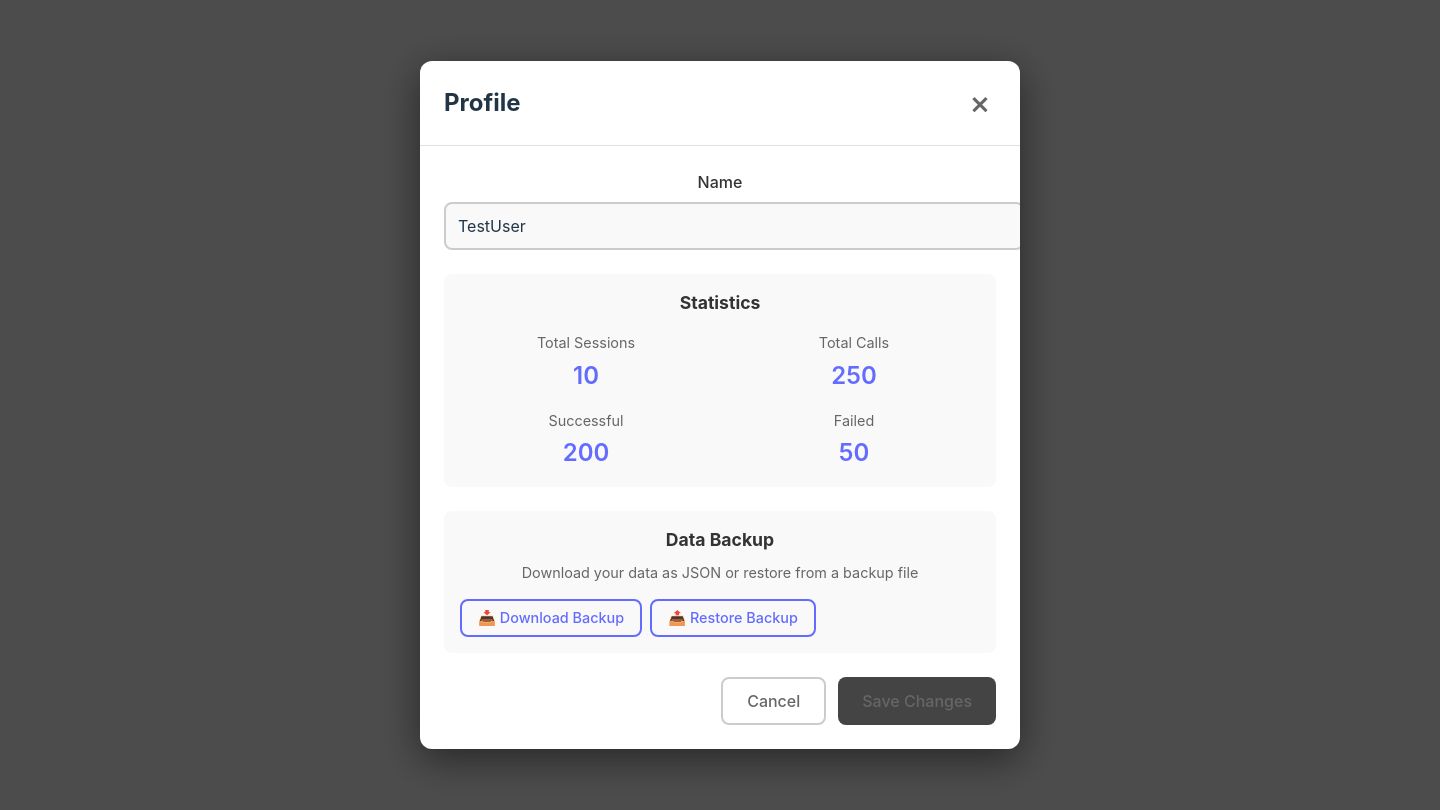
Test: ProfileModal › shows validation error for invalid name
Clear the field labelled "Name" at {"x": 734, "y": 226}, box [444, 202, 1024, 250]
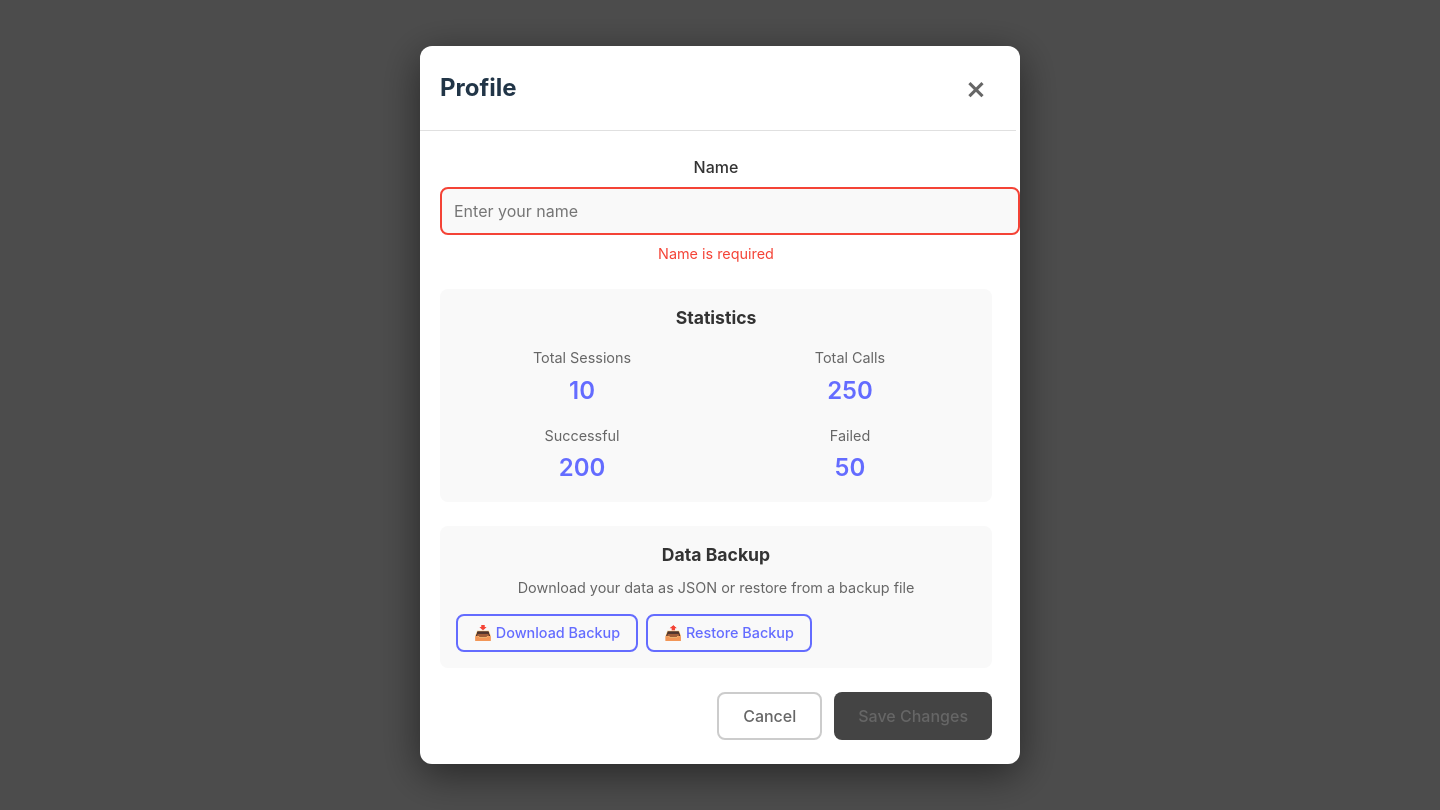
Type "Invalid@Name!" into the field labelled "Name" at {"x": 730, "y": 211}, box [440, 187, 1020, 235]
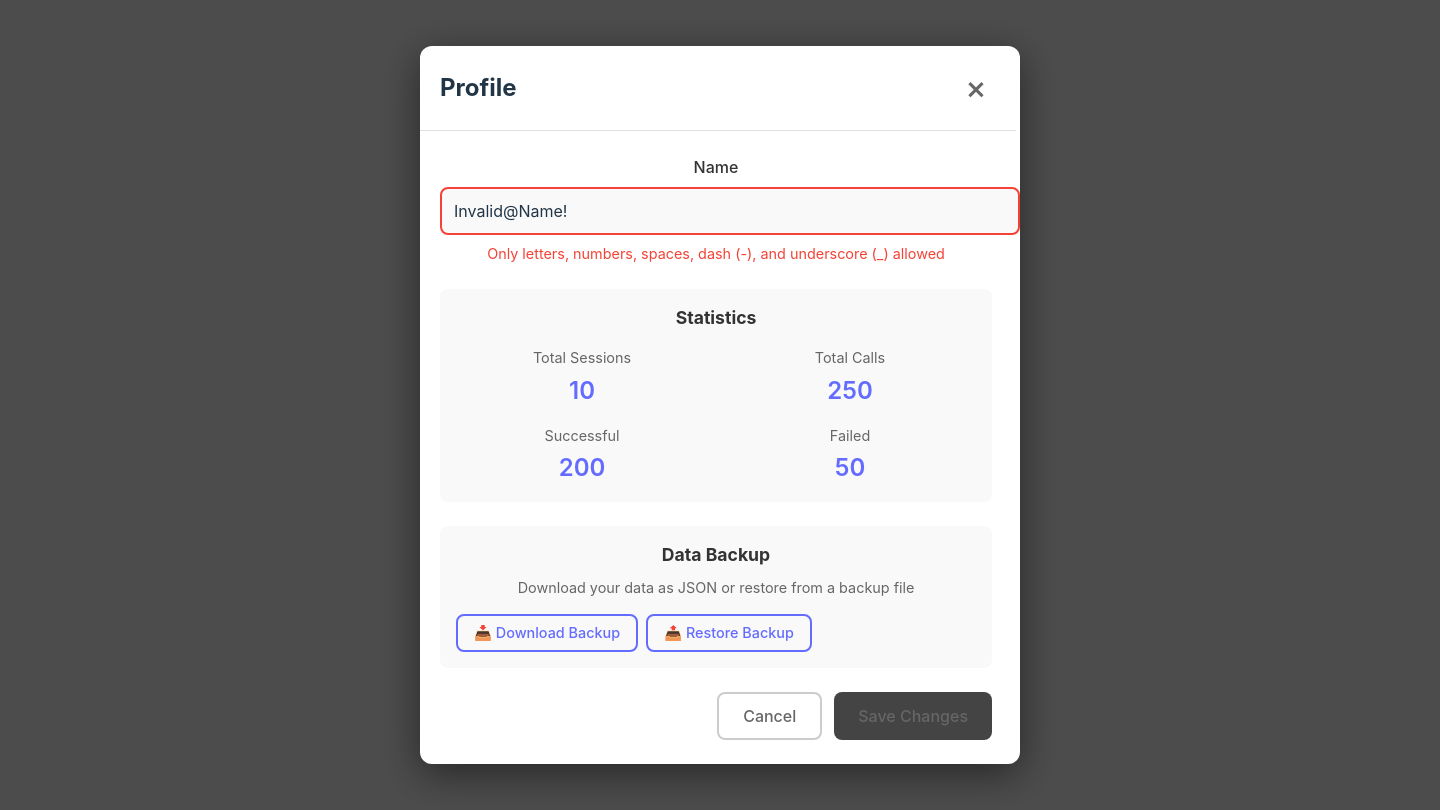
Expected: the text "Only letters, numbers, spaces, dash (-), and underscore (_) allowed" is shown, [487, 245, 945, 262]
